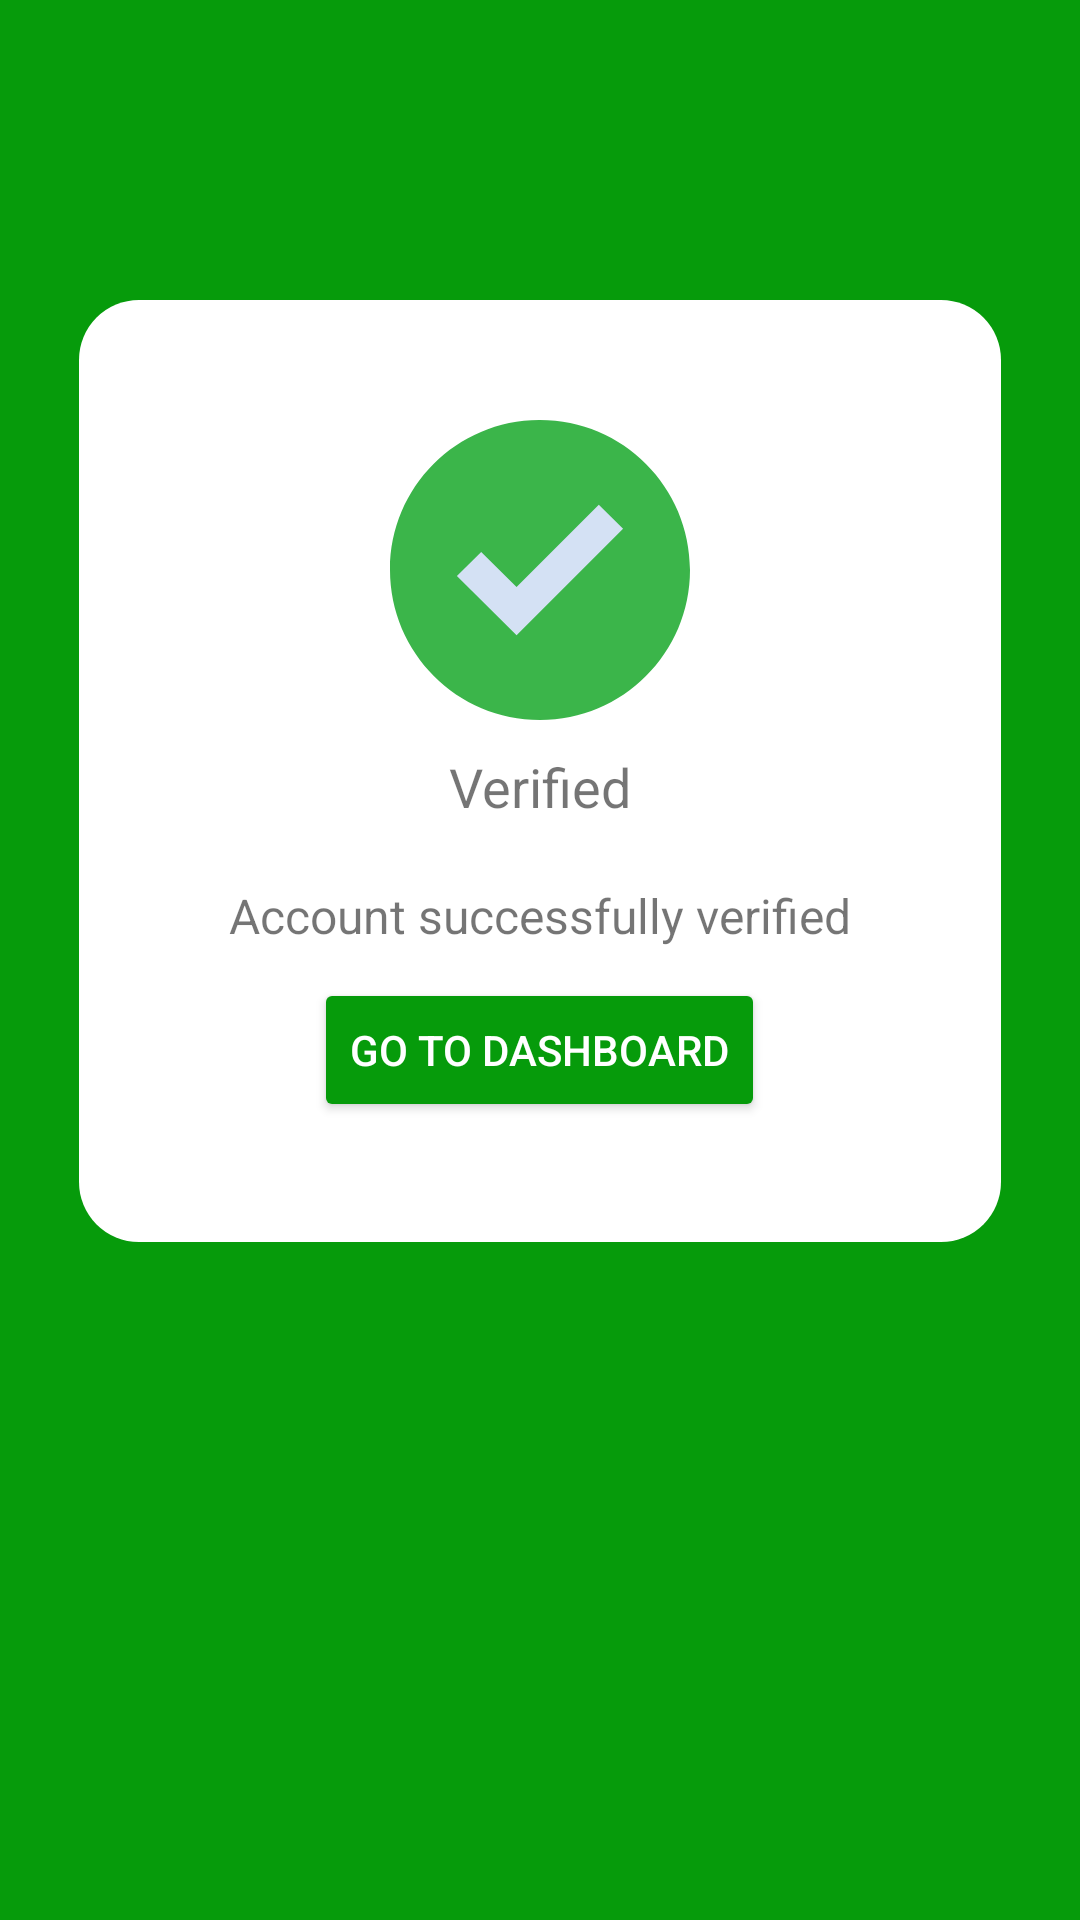

Where icons sit on this 1080*1920 app screen, as Rect(x1, y1, x2, y2):
check: Rect(390, 420, 690, 720)
